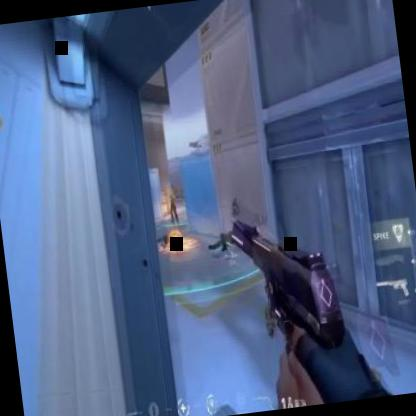enemy: (166, 187, 180, 224)
enemy_head: (170, 188, 173, 196)
